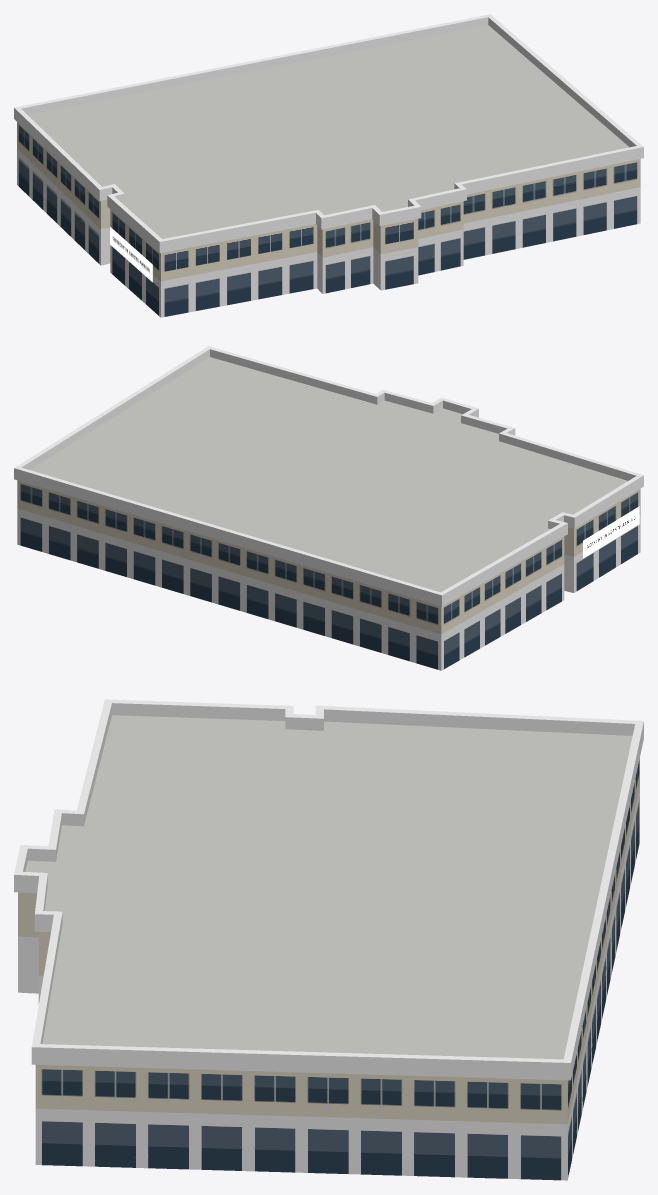
Rendered from courthouse.glb.
3 renders of one model, top to bottom at view 1: azimuth 30°, elevation 25°; view 2: azimuth 150°, elevation 25°; view 3: azimuth 270°, elevation 25°, orthographic. The views are drawn at different scales.
Parts seen in each view (by area): view 1: courthouse_lod0; view 2: courthouse_lod0; view 3: courthouse_lod0.
Boxes of the visible parts, left/top/right/bottom form: courthouse_lod0: left=14, top=14, right=643, bottom=317; courthouse_lod0: left=14, top=346, right=643, bottom=670; courthouse_lod0: left=14, top=699, right=643, bottom=1180.
Size of what is drawn, in the model's own units: 58.38 by 8.9 by 42.64.
5 materials, 3 textured.
